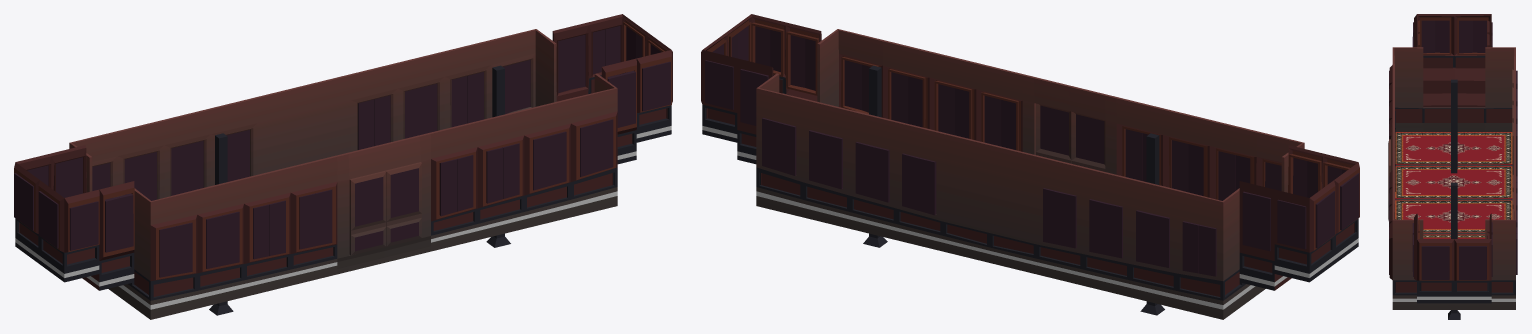
File: interior_rumah_gadang.fbx
3 renders of one model, left to right at view 1: azimuth 30°, elevation 25°; view 2: azimuth 150°, elevation 25°; view 3: azimuth 270°, elevation 25°, orthographic. The views are drawn at different scales.
Visible parts, largest first — view 1: badan rumah, sayap rumah, pintu rm gadang, Cube.036, Cube.040, Cube.038, Cube.113, Cube.039, Cube.111, kaki tengah, Cube.114, Cube.112 (+20 smaller); view 2: badan rumah, sayap rumah, pintu rm gadang, Cube.122, Cube.121, Cube.119, Cube.120, Cube.116, Cube.115, kaki tengah, Cube.117, Cube.118 (+20 smaller); view 3: badan rumah, Karpet, sayap rumah, kaki tengah, Cube.132, Cube.131, Cube.134, Cube.133, pintu rm gadang, Cube.122.
Boxes of the visible parts, x1,y1,x2,y2 form: badan rumah: [69, 29, 617, 319]; sayap rumah: [14, 14, 672, 290]; pintu rm gadang: [349, 162, 421, 255]; Cube.036: [315, 159, 456, 245]; Cube.040: [269, 147, 503, 255]; Cube.038: [299, 155, 473, 249]; Cube.113: [222, 135, 550, 265]; Cube.039: [253, 143, 519, 259]; Cube.111: [159, 119, 613, 277]; kaki tengah: [209, 65, 510, 315]; Cube.114: [206, 131, 566, 268]; Cube.112: [176, 123, 596, 274]; badan rumah: [756, 29, 1304, 319]; sayap rumah: [701, 14, 1359, 290]; pintu rm gadang: [1036, 103, 1105, 171]; Cube.122: [918, 157, 1059, 244]; Cube.121: [902, 153, 1076, 248]; Cube.119: [872, 146, 1106, 254]; Cube.120: [855, 142, 1122, 258]; Cube.116: [825, 134, 1153, 264]; Cube.115: [809, 130, 1169, 267]; kaki tengah: [863, 65, 1164, 315]; Cube.117: [779, 122, 1199, 273]; Cube.118: [762, 118, 1216, 276]; badan rumah: [1389, 47, 1515, 309]; Karpet: [1395, 132, 1512, 238]; sayap rumah: [1414, 14, 1491, 303]; kaki tengah: [1448, 79, 1460, 319]; Cube.132: [1435, 20, 1449, 279]; Cube.131: [1421, 20, 1435, 279]; Cube.134: [1459, 20, 1472, 279]; Cube.133: [1473, 20, 1486, 279]; pintu rm gadang: [1388, 139, 1390, 220]; Cube.122: [1516, 130, 1517, 182].
Size of the model in its own units: 4752 by 1287 by 1137.
